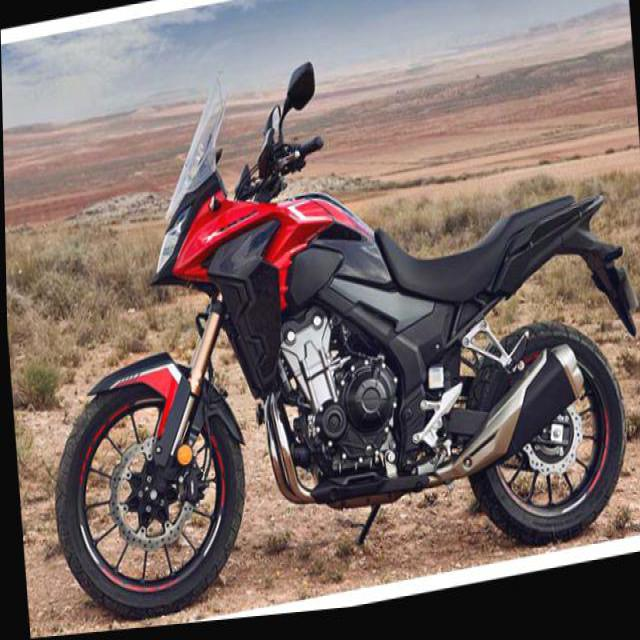CB500X: (24, 3, 639, 637)
